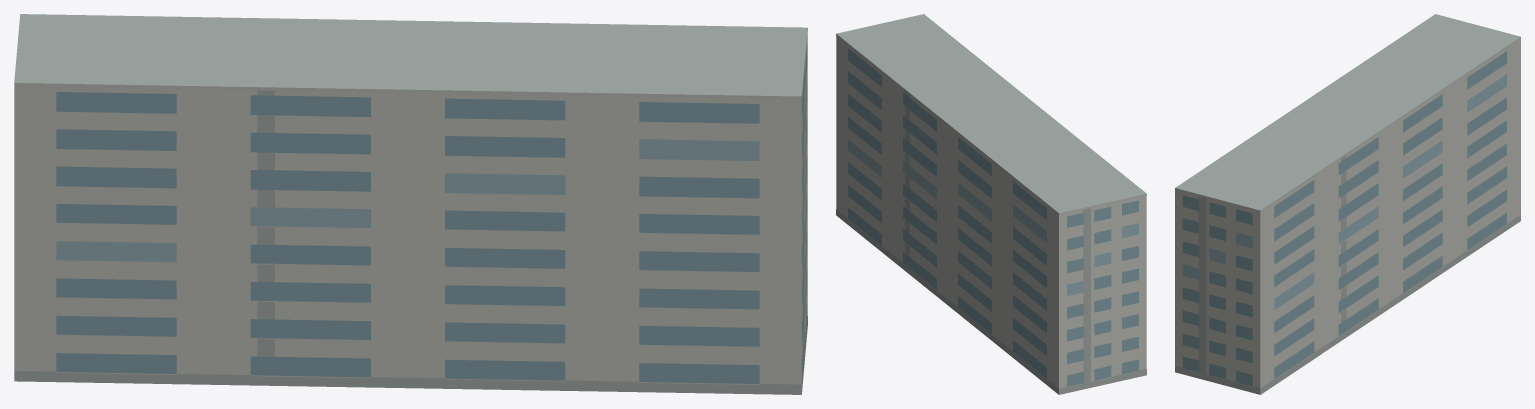
File: survey-upis-32765899.glb
3 views of the same model, side by side, from view 1: azimuth 30°, elevation 25°; view 2: azimuth 150°, elevation 25°; view 3: azimuth 270°, elevation 25° (orthographic). The views are drawn at different scales.
Visible parts, largest first — view 1: survey-upis-32765899.tmp; view 2: survey-upis-32765899.tmp; view 3: survey-upis-32765899.tmp.
Part boxes in pixels (x1=…): survey-upis-32765899.tmp: x1=14, y1=14, x2=807, y2=394; survey-upis-32765899.tmp: x1=836, y1=14, x2=1146, y2=394; survey-upis-32765899.tmp: x1=1175, y1=14, x2=1520, y2=394.
Bounding box in the file's own units: 50.53 × 22.1 × 37.58.
